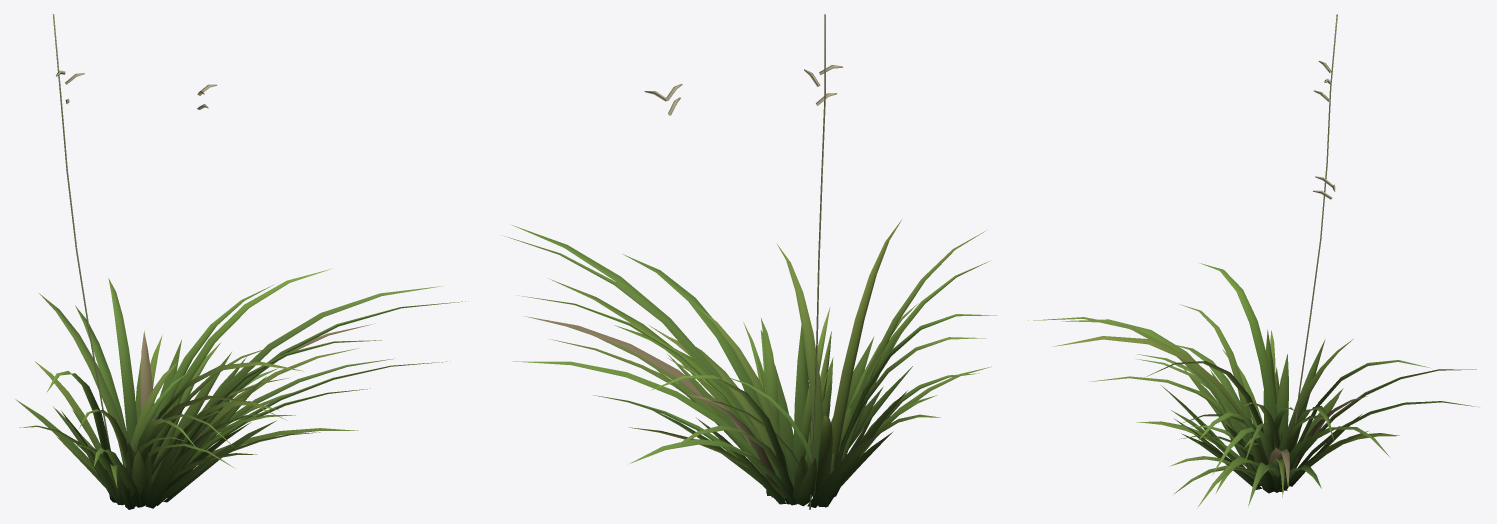
File: eco_sedge_bank_LOD1.glb
The picture shows the model from 3 angles, left to right: view 1: azimuth 30°, elevation 25°; view 2: azimuth 150°, elevation 25°; view 3: azimuth 270°, elevation 25°; orthographic projection. The views are drawn at different scales.
Parts seen in each view (by area): view 1: eco_sedge_bank_LOD1; view 2: eco_sedge_bank_LOD1; view 3: eco_sedge_bank_LOD1.
Part boxes in pixels (left/top/right/bottom): eco_sedge_bank_LOD1: left=15, top=14, right=465, bottom=509; eco_sedge_bank_LOD1: left=504, top=14, right=997, bottom=509; eco_sedge_bank_LOD1: left=1028, top=14, right=1479, bottom=508.
Size of the model in its own units: 1.03 by 1.08 by 1.
